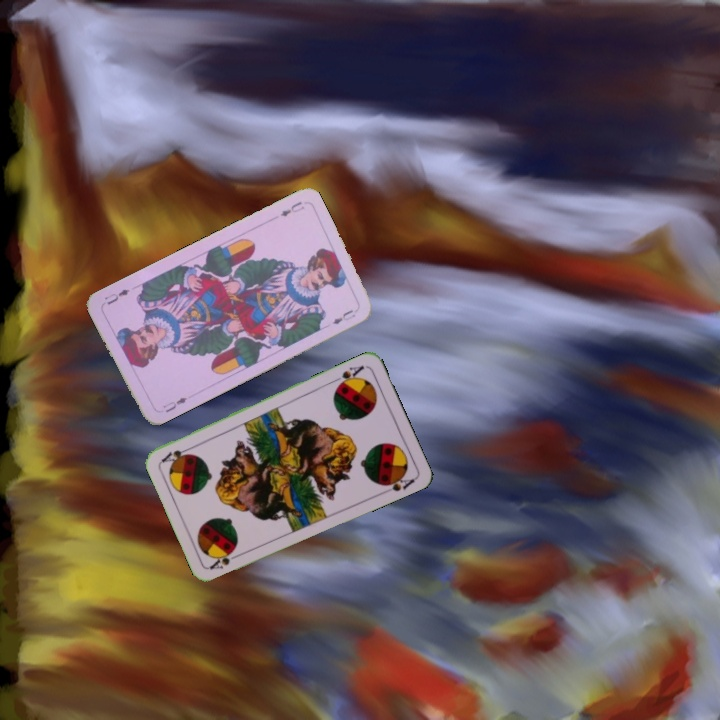EU: (159, 393, 190, 415), (276, 197, 307, 219)
SA: (330, 361, 367, 390), (206, 546, 244, 572)
